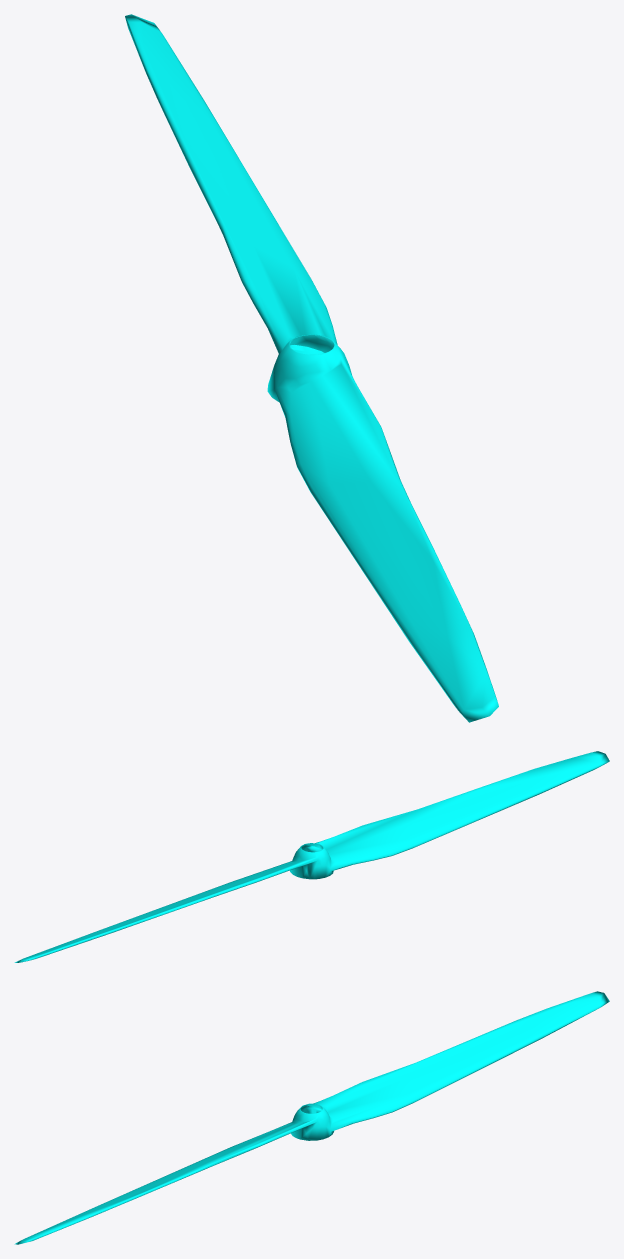
File: drone_propeller1.obj
The picture shows the model from 3 angles, top to bottom: view 1: azimuth 30°, elevation 25°; view 2: azimuth 150°, elevation 25°; view 3: azimuth 330°, elevation 25°; orthographic projection. The views are drawn at different scales.
Parts seen in each view (by area): view 1: main_motor_prop2_polySurface6; view 2: main_motor_prop2_polySurface6; view 3: main_motor_prop2_polySurface6.
Boxes of the visible parts, <box> form: main_motor_prop2_polySurface6: <box>125,14,498,722</box>; main_motor_prop2_polySurface6: <box>14,751,609,962</box>; main_motor_prop2_polySurface6: <box>14,991,609,1244</box>.
Size of the model in its own units: 5.65 by 0.7026 by 17.06.
